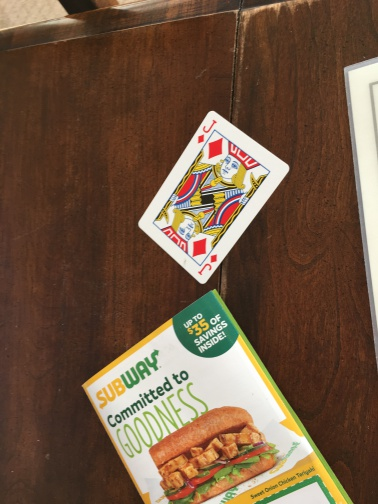jack: (136, 109, 292, 286)
